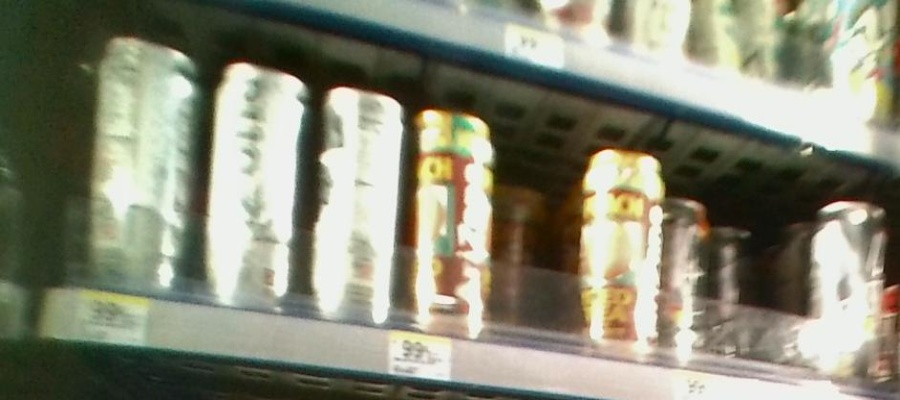bottle: (81, 20, 200, 302), (204, 27, 308, 321), (311, 50, 406, 336), (411, 78, 500, 344), (579, 122, 663, 357), (808, 185, 888, 391), (501, 154, 560, 342), (666, 174, 708, 361)
